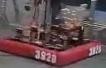red_number: (35, 48, 57, 65), (87, 44, 102, 57)
